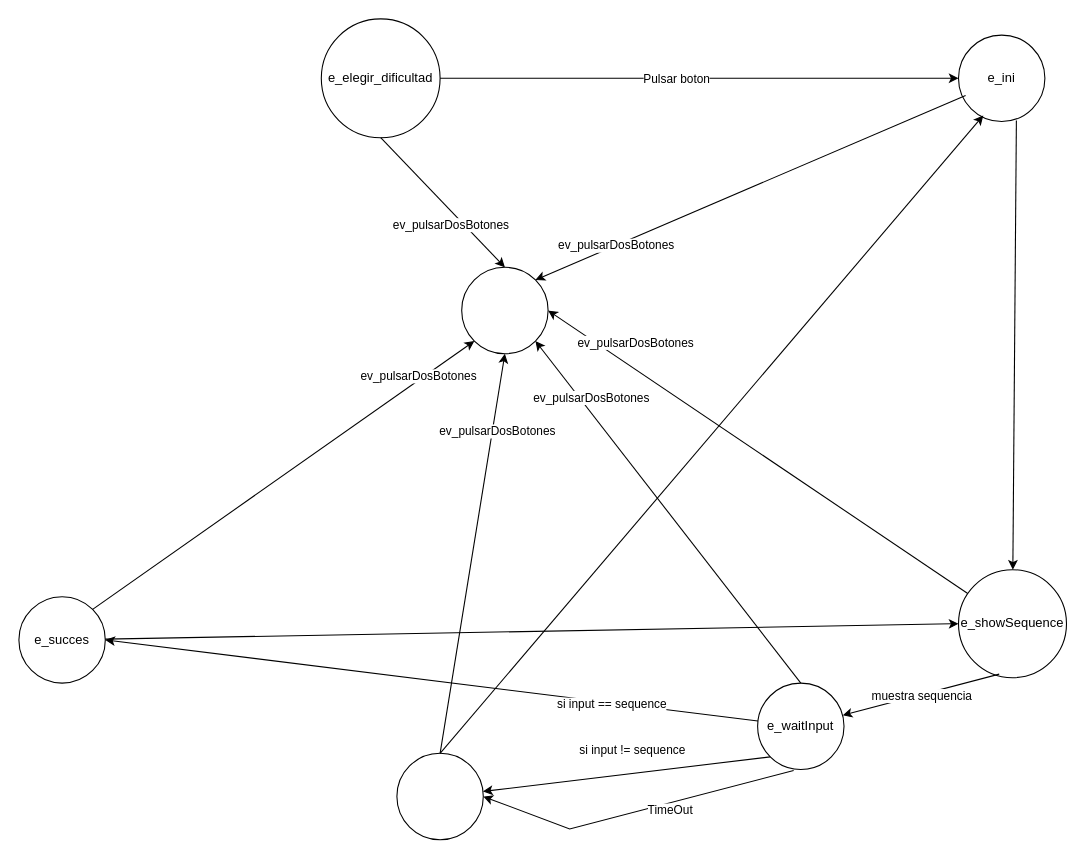
This 1085x859 diagram has some shape labels left out. Each missing label, with the centre of its shape:
e_fail: the point at 439,796
e_fin: the point at 504,310
